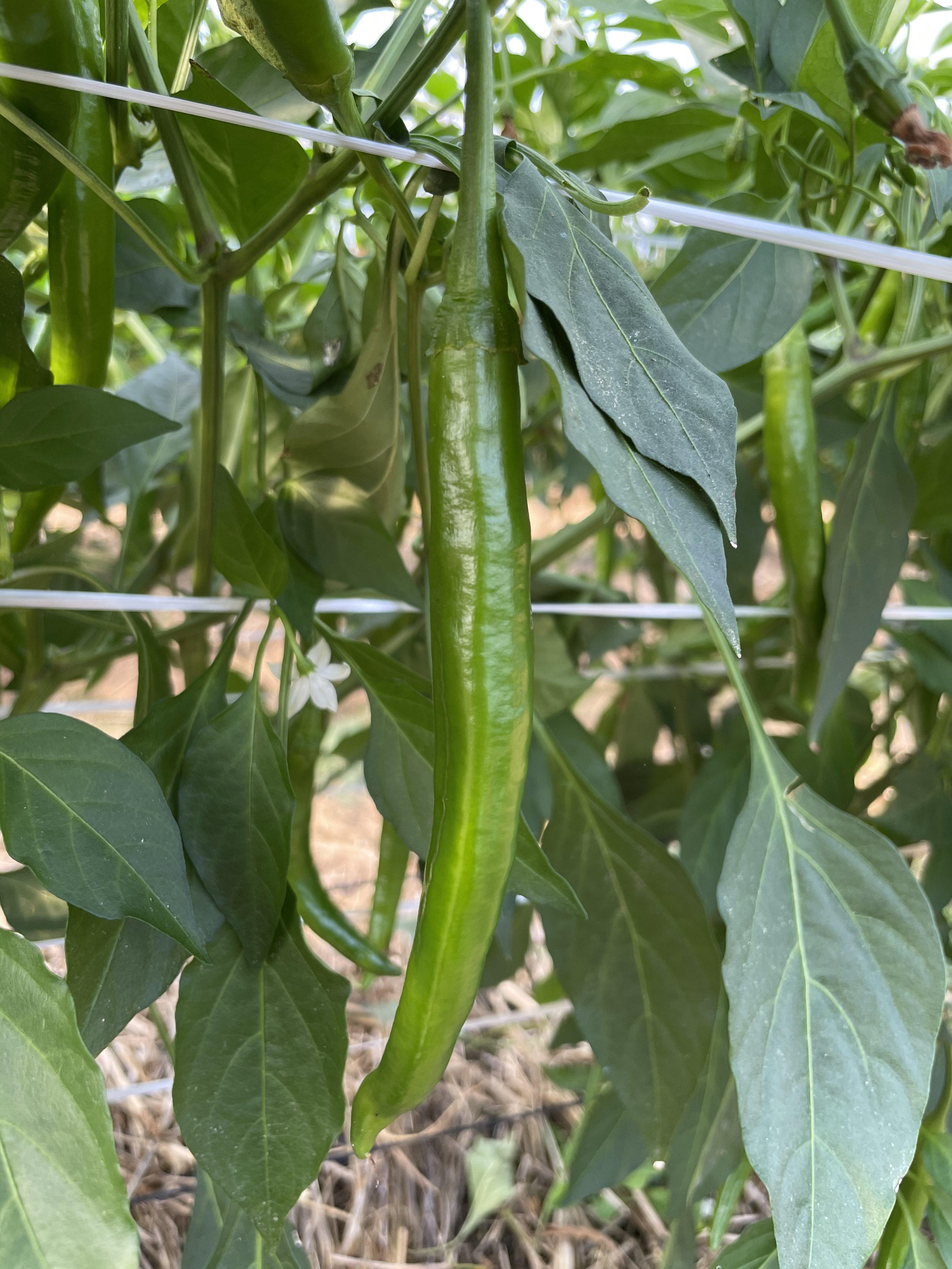Buah Cabai Sehat: (346, 259, 538, 1159)
Daun Cabai Sehat: (718, 760, 952, 1269), (498, 140, 748, 547), (534, 785, 728, 1182), (170, 919, 355, 1266), (0, 696, 209, 962), (0, 921, 150, 1269), (180, 690, 310, 963), (0, 377, 189, 500)
